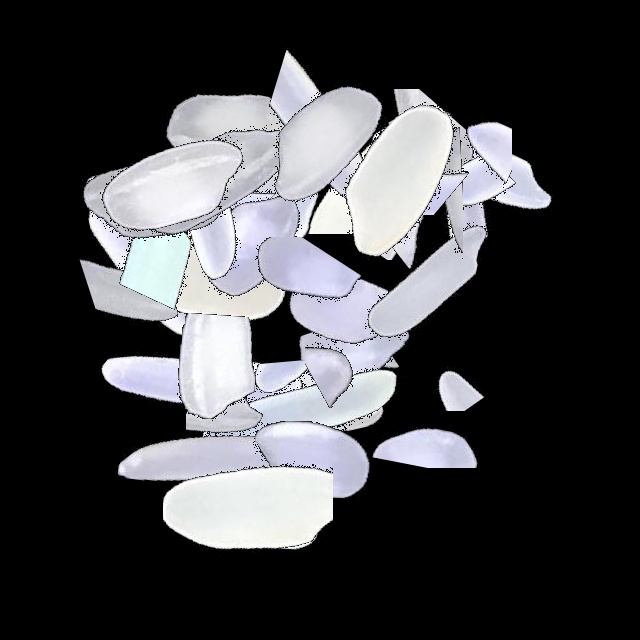Broken: (163, 346, 333, 596), (137, 430, 387, 596), (231, 291, 397, 541), (132, 272, 297, 522), (266, 0, 428, 250), (302, 111, 552, 265), (293, 268, 445, 518), (173, 153, 316, 403), (92, 171, 342, 313), (110, 73, 360, 214), (33, 204, 283, 345), (268, 89, 518, 226), (284, 126, 534, 260), (106, 109, 240, 359), (158, 237, 408, 371), (147, 37, 278, 287), (365, 64, 495, 314), (186, 302, 312, 552), (279, 90, 529, 215), (204, 113, 454, 234), (308, 349, 558, 468), (108, 111, 224, 361), (354, 72, 463, 322), (305, 224, 411, 474), (375, 52, 480, 302), (341, 154, 591, 254), (412, 31, 512, 281), (324, 315, 574, 411), (297, 0, 393, 250), (220, 318, 470, 396), (193, 359, 443, 436), (307, 75, 383, 325)
Full: (188, 274, 438, 524), (117, 130, 367, 380), (341, 38, 591, 288), (24, 132, 274, 382), (89, 101, 339, 351), (74, 253, 324, 503), (179, 284, 429, 534), (285, 28, 535, 278), (114, 5, 364, 255), (130, 120, 380, 370), (217, 180, 467, 430), (299, 156, 549, 406), (29, 73, 279, 323), (88, 51, 338, 301), (90, 336, 340, 586), (48, 62, 298, 312), (194, 15, 444, 265), (276, 51, 526, 301)
